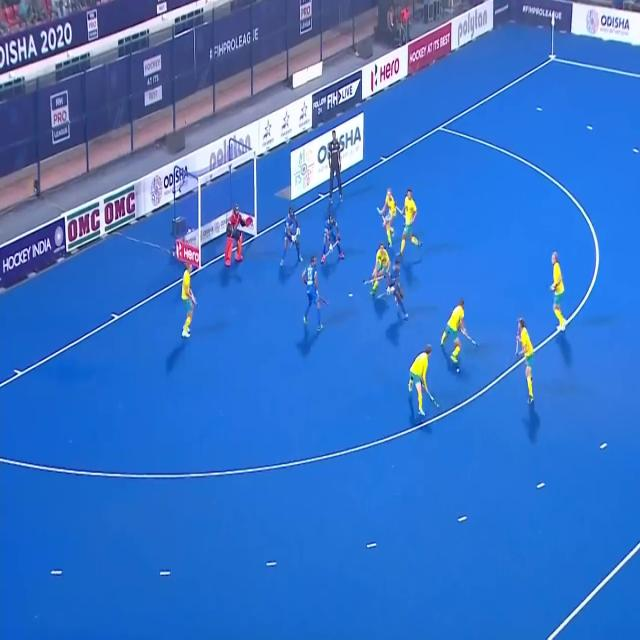ball: (456, 366, 460, 374)
